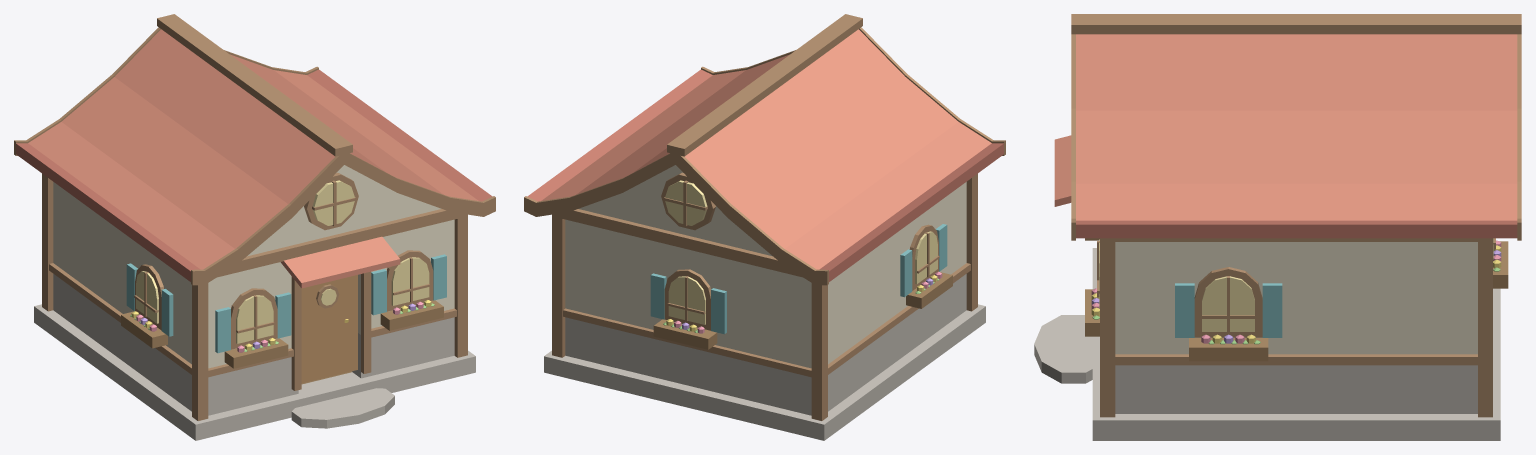
File: inn_cream.glb
3 renders of one model, left to right at view 1: azimuth 30°, elevation 25°; view 2: azimuth 150°, elevation 25°; view 3: azimuth 270°, elevation 25°, orthographic. The views are drawn at different scales.
Visible parts, largest first — view 1: Player; view 2: Player; view 3: Player.
Part boxes in pixels (x1,y1,x2,y2): Player: (14, 14, 495, 440); Player: (524, 14, 1005, 440); Player: (1034, 14, 1521, 440).
Bounding box in the file's own units: 5.84 × 4.9 × 6.45.
